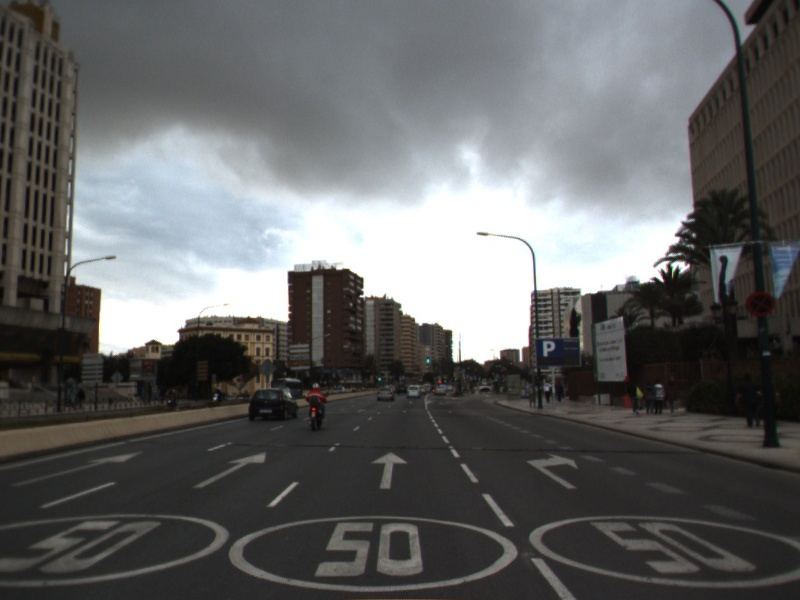RIGHT: (523, 450, 581, 492)
STRAIGHT: (8, 448, 148, 489), (190, 448, 269, 491), (368, 449, 411, 491)
